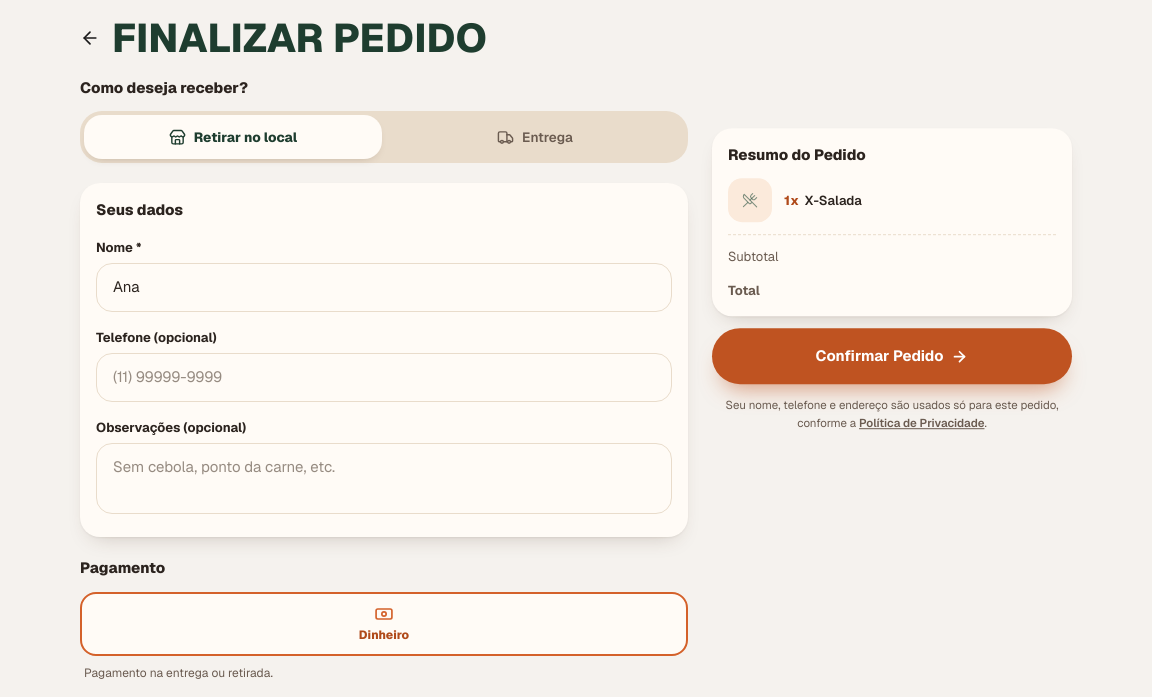
quando o servidor recusa o pedido › issue do zod vira erro no campo, e nada de JSON na tela
This screenshot has width=1152, height=697.
Expected: the heading "Finalizar Pedido" is shown, left=112, top=20, right=487, bottom=57
Click the button "Confirmar Pedido". click: x=892, y=356
box: left=712, top=328, right=1072, bottom=384
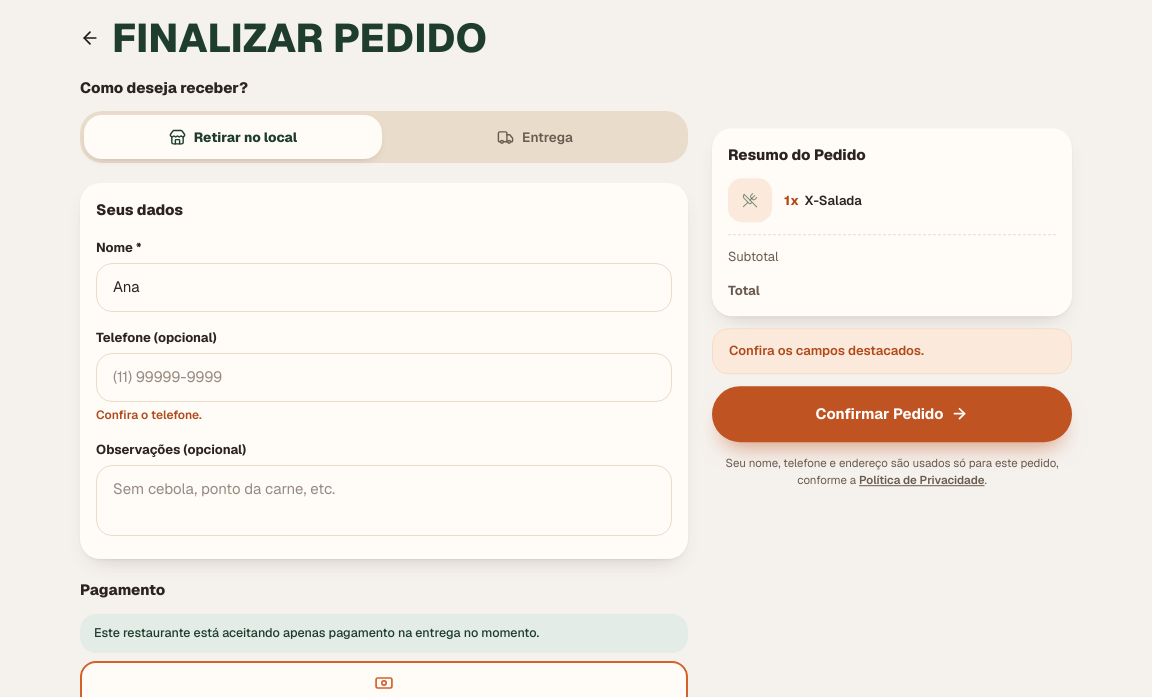
Expected: the text "Confira o telefone." is shown, left=96, top=407, right=202, bottom=423
Expected: the text "Confira os campos destacados." is shown, left=712, top=328, right=1072, bottom=374
